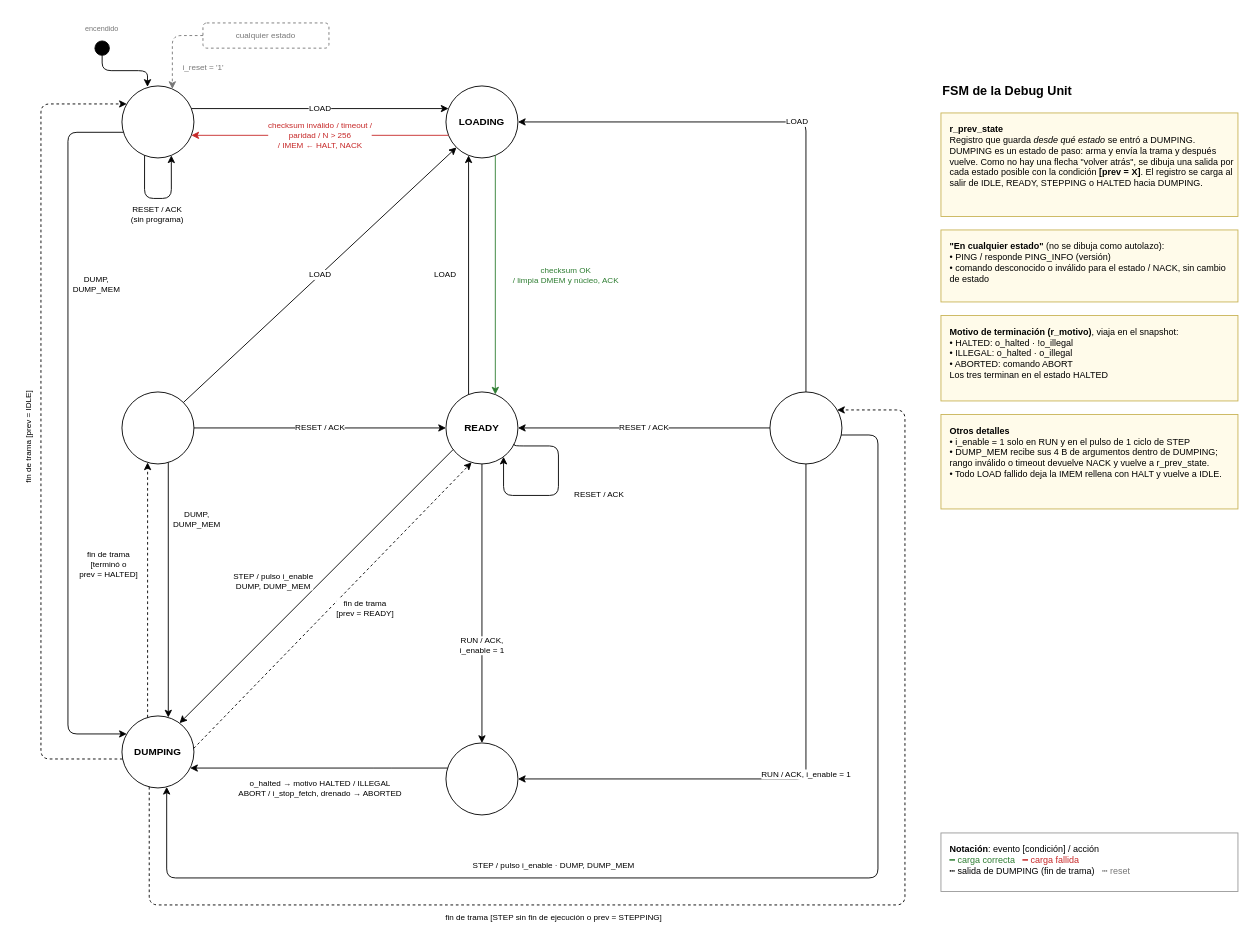
The diagram is 1254 pixels wide and 945 high, and some of its shapes have lost their labels. Here are the shapes that lost their labels. From the top down, the centre of each, then its label:
At (157,121): "IDLE".
At (157,427): "HALTED".
At (805,427): "STEPPING".
At (481,778): "RUN".
